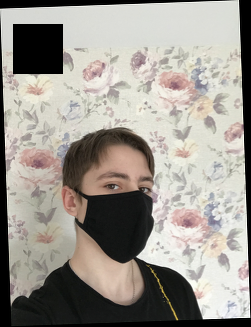with_mask: (82, 161, 158, 265)
